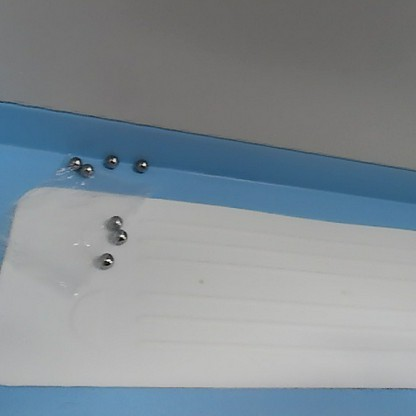ironball: (95, 247, 115, 273), (100, 148, 120, 170), (106, 211, 126, 230), (77, 159, 95, 179), (111, 227, 129, 246), (131, 156, 150, 173), (66, 153, 83, 172)
